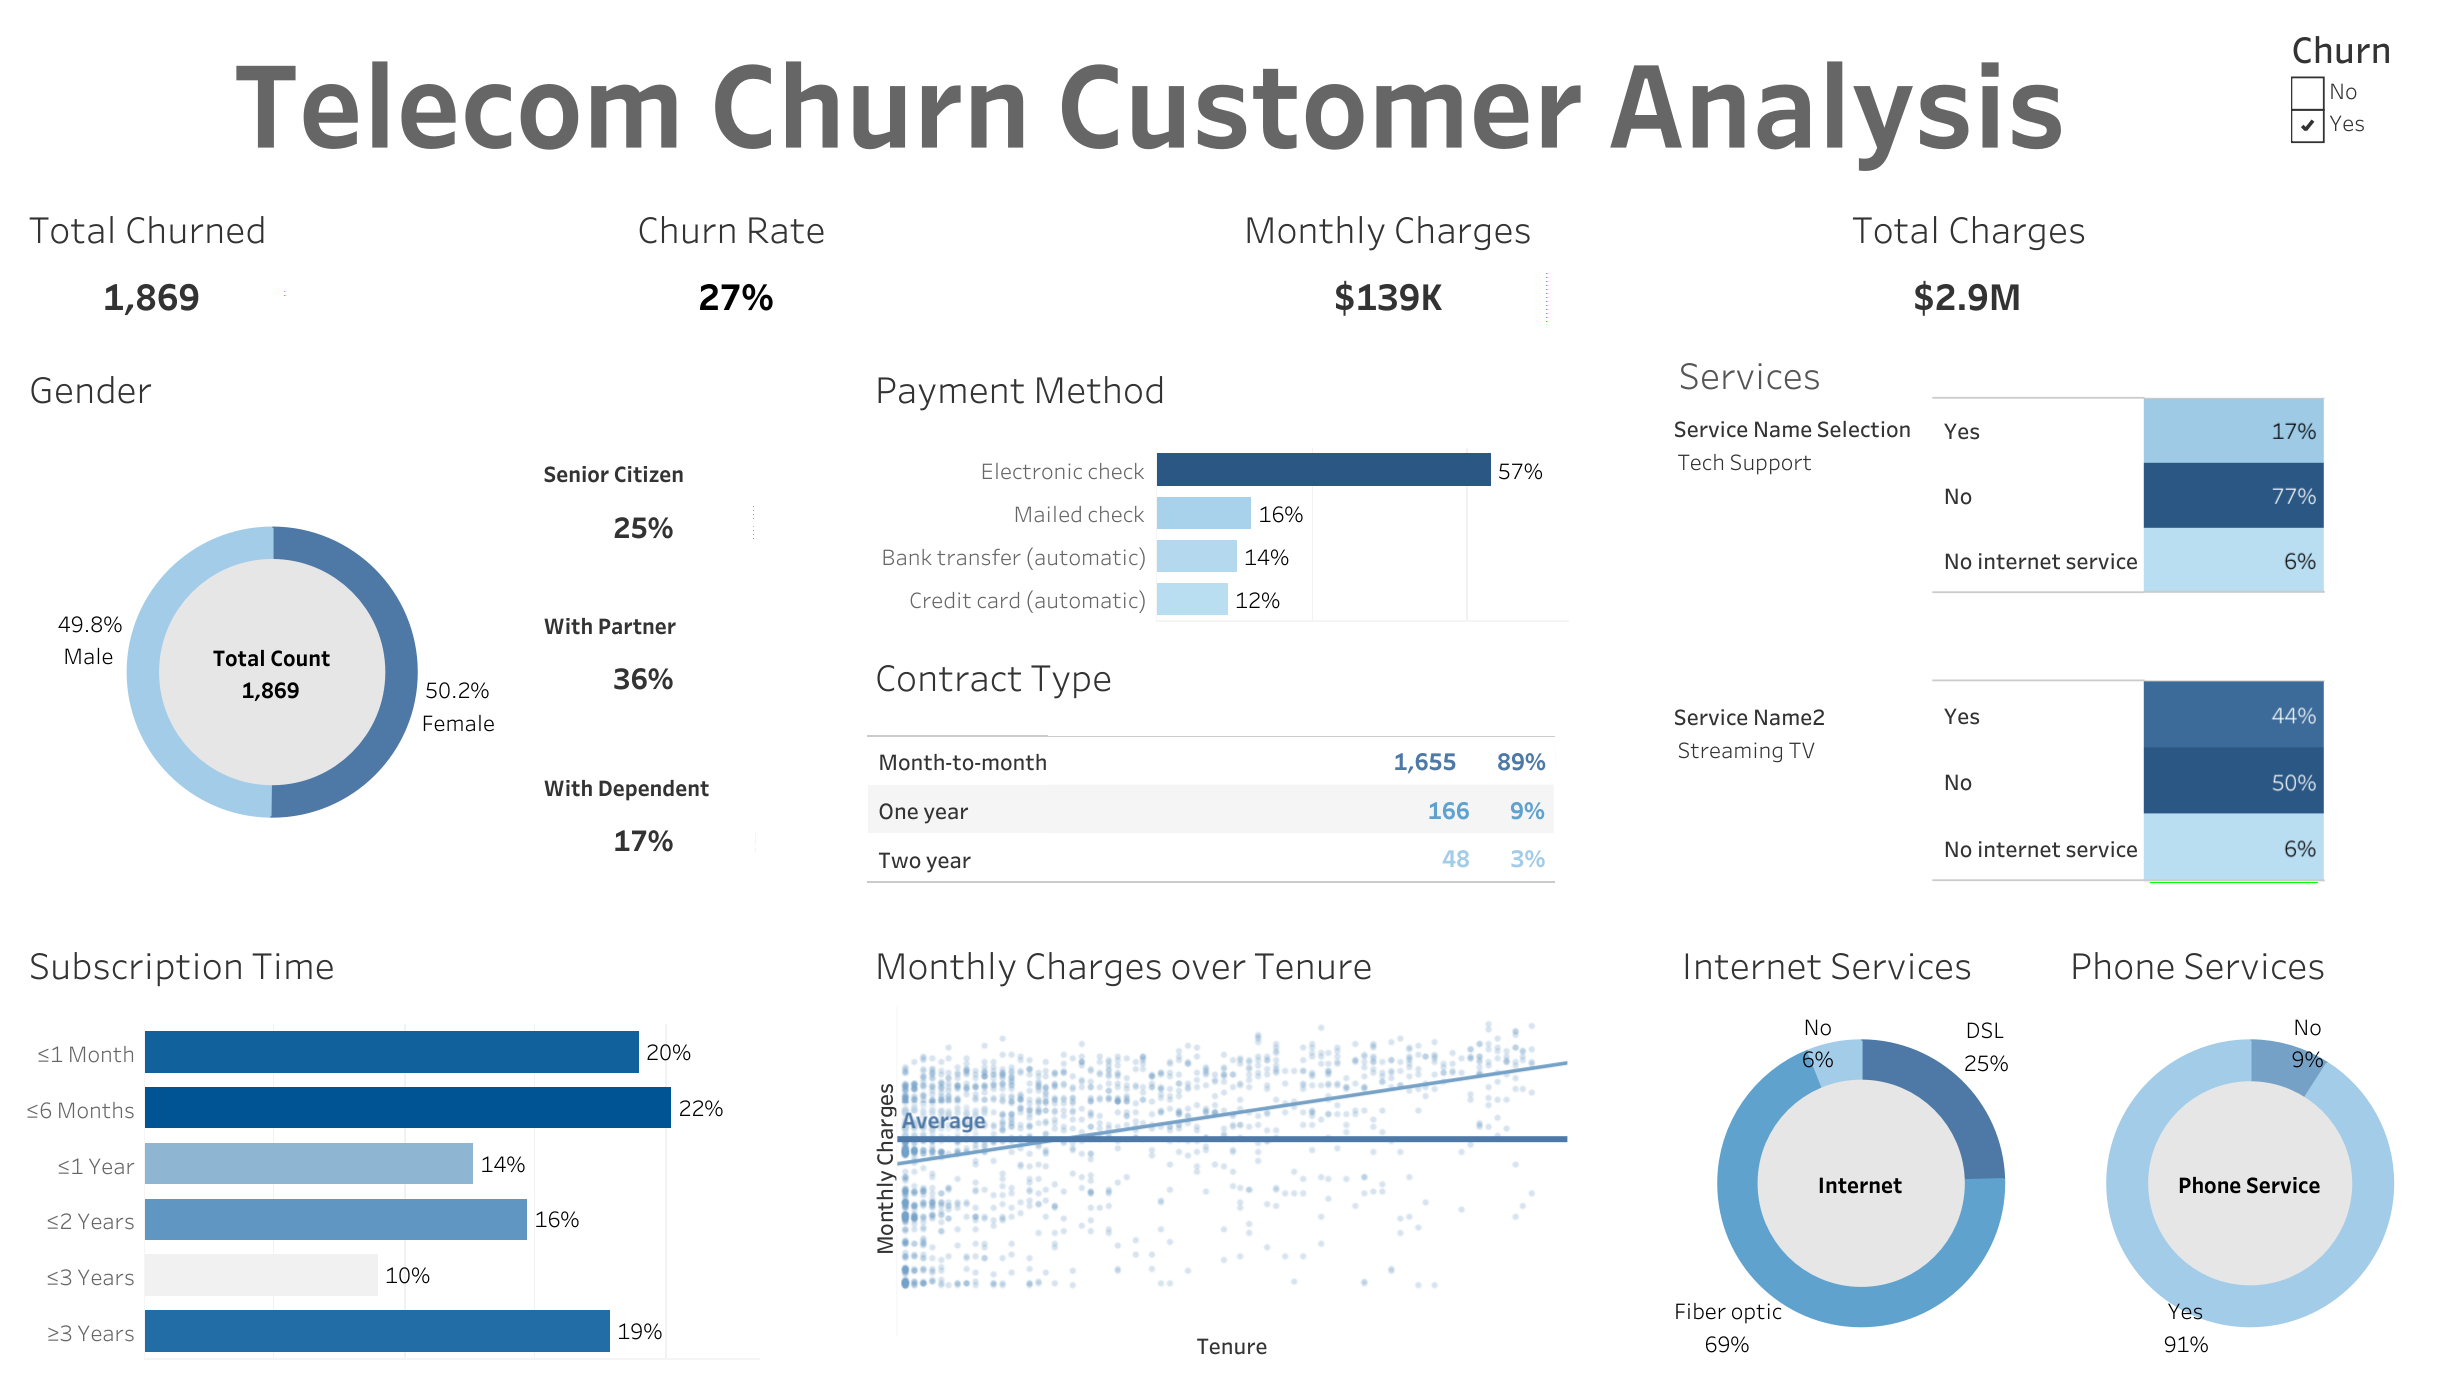

Layout of this report page (visuals, bound fields, positions):
{"tool":"tableau","page":{"name":"Churn Customer Analysis","canvas":[1366,768],"ordinal":0},"visuals":[{"type":"text","box":[8,8,1261,95]},{"type":"filter","title":"Subscription Time","param":"[federated.0y2gqy30m879fb10uk7ht0uma2y6].[none:Churn:nk]","box":[1269,8,89,95]},{"type":"worksheet","title":"Total Churned","mark":"Automatic","box":[8,103,337.5,79]},{"type":"worksheet","title":"Churn Rate","mark":"Automatic","box":[345.5,103,337.5,89]},{"type":"worksheet","title":"Monthly Charges","mark":"Automatic","box":[683,103,337.5,89]},{"type":"worksheet","title":"Total Charges","mark":"Automatic","box":[1020.5,103,337.5,89]},{"type":"worksheet","title":"Gender","mark":"Pie","rows":["Calculation_2555159509240893443","Calculation_2555159509240918021"],"box":[8,192,286.3,320]},{"type":"worksheet","title":"Payment Method","mark":"Automatic","rows":["PaymentMethod"],"cols":["PaymentMethod"],"box":[477.9,192,397.1,160]},{"type":"text","box":[926,192,144,32]},{"type":"worksheet","title":"Service Type (2)","mark":"Square","rows":["Calculation_2555159509348982805"],"box":[1070,192,288,157]},{"type":"parameter","param":"[Parameters].[Parameter 1]","box":[926,224,144,160]},{"type":"worksheet","title":"Senior Citizen","mark":"Automatic","box":[294.3,244,183.6,84.4]},{"type":"worksheet","title":"With Partner","mark":"Automatic","box":[294.3,328.4,183.6,89.8]},{"type":"worksheet","title":"Service Type","mark":"Square","rows":["Service Name (copy)_1055570904703064"],"box":[1070,349,288,163]},{"type":"worksheet","title":"Contract Type","mark":"Automatic","rows":["Contract"],"box":[477.9,352,397.1,160]},{"type":"parameter","param":"[Parameters].[Service Name Selection (copy)_1055570904088662]","box":[926,384,144,128]},{"type":"worksheet","title":"With Dependent","mark":"Automatic","box":[294.3,418.2,183.6,93.8]},{"type":"worksheet","title":"Subscription Time","mark":"Automatic","rows":["Calculation_2555159509245911048"],"cols":["Calculation_2555159509245911048"],"box":[8,512,418,248]},{"type":"worksheet","title":"Monthly Charges over Tenure","mark":"Circle","rows":["MonthlyCharges"],"cols":["tenure"],"box":[478,512,397,248]},{"type":"worksheet","title":"Internet Services","mark":"Pie","rows":["Calculation_2555159509320183819","Calculation_2555159509320208397"],"box":[926,512,216,248]},{"type":"worksheet","title":"Phone Services","mark":"Pie","rows":["Calculation_2555159509515796504","Calculation_2555159509515816986"],"box":[1142,512,216,248]}]}

Visuals, with their boxes in screenshot pixels (x1, y1, x2, y2), scaled from the page's 1366x768 canvas onto the 2457x1381 screenshot:
text: {"x1": 14, "y1": 14, "x2": 2283, "y2": 185}
"Subscription Time" filter: {"x1": 2283, "y1": 14, "x2": 2443, "y2": 185}
"Total Churned" worksheet: {"x1": 14, "y1": 185, "x2": 621, "y2": 327}
"Churn Rate" worksheet: {"x1": 621, "y1": 185, "x2": 1228, "y2": 345}
"Monthly Charges" worksheet: {"x1": 1228, "y1": 185, "x2": 1836, "y2": 345}
"Total Charges" worksheet: {"x1": 1836, "y1": 185, "x2": 2443, "y2": 345}
"Gender" worksheet (Pie marks): {"x1": 14, "y1": 345, "x2": 529, "y2": 921}
"Payment Method" worksheet: {"x1": 860, "y1": 345, "x2": 1574, "y2": 633}
text: {"x1": 1666, "y1": 345, "x2": 1925, "y2": 403}
"Service Type (2)" worksheet (Square marks): {"x1": 1925, "y1": 345, "x2": 2443, "y2": 628}
parameter: {"x1": 1666, "y1": 403, "x2": 1925, "y2": 690}
"Senior Citizen" worksheet: {"x1": 529, "y1": 439, "x2": 860, "y2": 591}
"With Partner" worksheet: {"x1": 529, "y1": 591, "x2": 860, "y2": 752}
"Service Type" worksheet (Square marks): {"x1": 1925, "y1": 628, "x2": 2443, "y2": 921}
"Contract Type" worksheet: {"x1": 860, "y1": 633, "x2": 1574, "y2": 921}
parameter: {"x1": 1666, "y1": 690, "x2": 1925, "y2": 921}
"With Dependent" worksheet: {"x1": 529, "y1": 752, "x2": 860, "y2": 921}
"Subscription Time" worksheet: {"x1": 14, "y1": 921, "x2": 766, "y2": 1367}
"Monthly Charges over Tenure" worksheet (Circle marks): {"x1": 860, "y1": 921, "x2": 1574, "y2": 1367}
"Internet Services" worksheet (Pie marks): {"x1": 1666, "y1": 921, "x2": 2054, "y2": 1367}
"Phone Services" worksheet (Pie marks): {"x1": 2054, "y1": 921, "x2": 2443, "y2": 1367}
